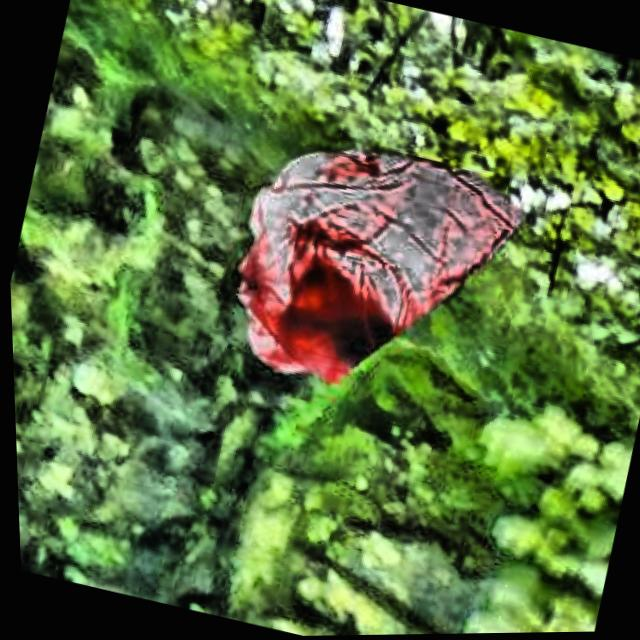Plastic: (185, 107, 544, 446)
